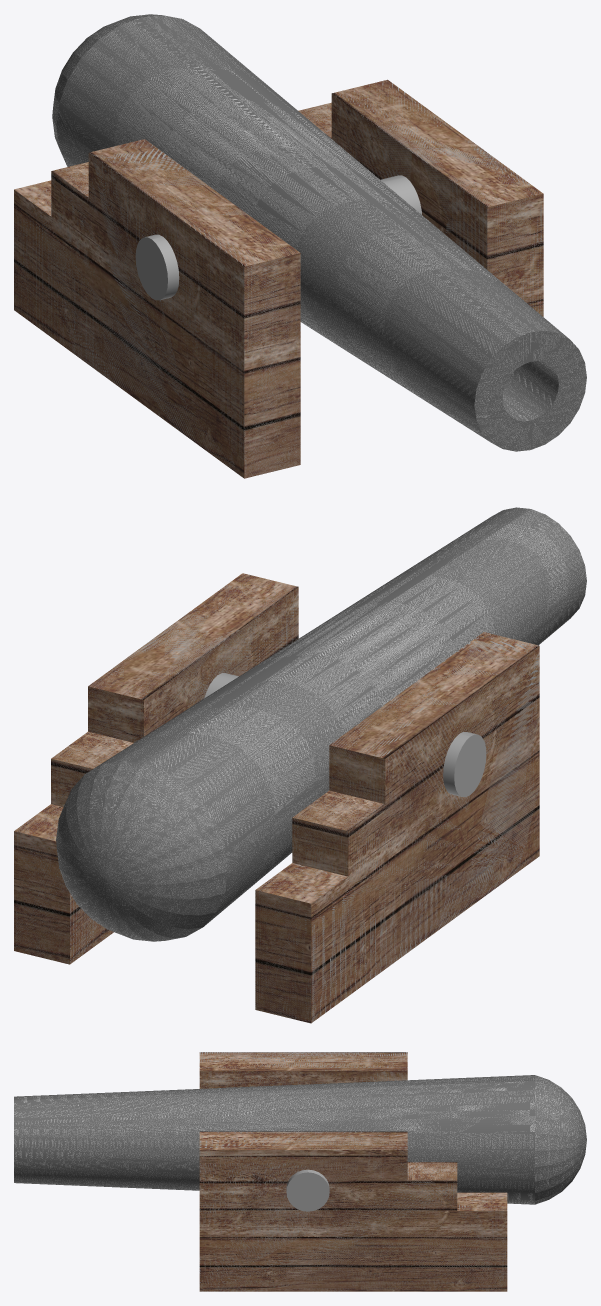
File: Cannon.dae
3 views of the same model, one above another, from view 1: azimuth 30°, elevation 25°; view 2: azimuth 150°, elevation 25°; view 3: azimuth 270°, elevation 25° (orthographic). The views are drawn at different scales.
Visible parts, largest first — view 1: group_1 (×3), group_0; view 2: group_1 (×3), group_0; view 3: group_1 (×3), group_0.
Part boxes in pixels (<box>): group_1 (×3): <box>14,79,543,478</box>; group_0: <box>52,14,586,451</box>; group_1 (×3): <box>14,573,539,1023</box>; group_0: <box>56,507,586,941</box>; group_1 (×3): <box>199,1052,507,1291</box>; group_0: <box>14,1075,586,1204</box>.
Size of the model in its own units: 22.32 by 51.97 by 16.14.
